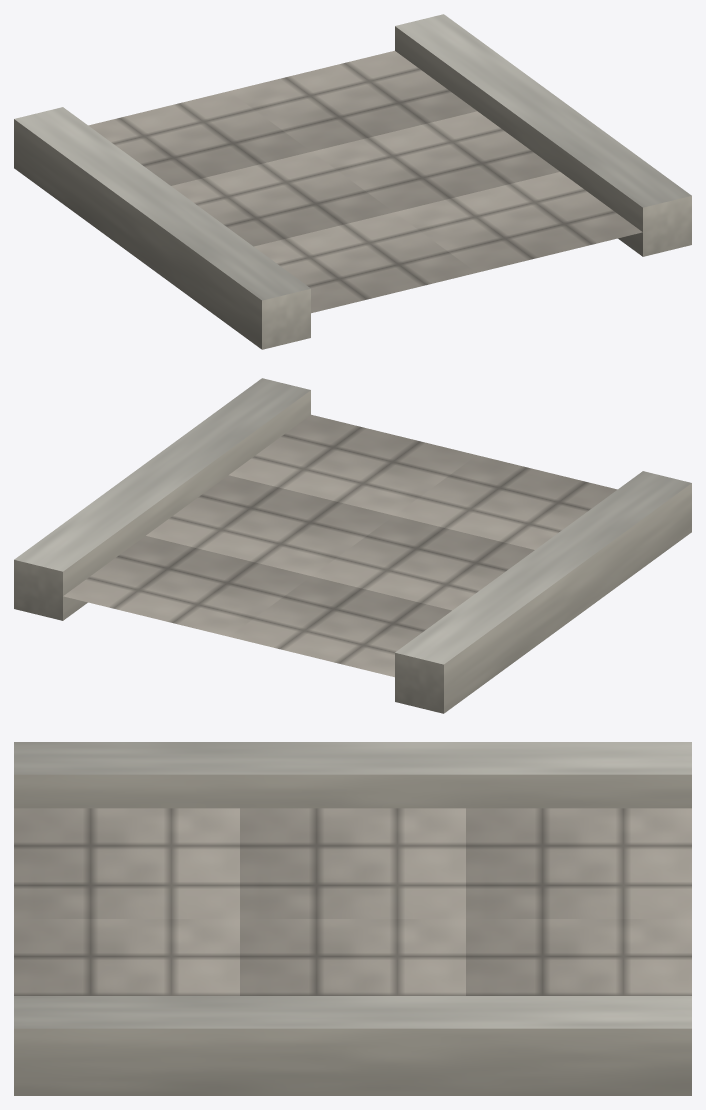
Rendered from walk_path_straight_01.glb.
The picture shows the model from 3 angles, top to bottom: view 1: azimuth 30°, elevation 25°; view 2: azimuth 150°, elevation 25°; view 3: azimuth 270°, elevation 25°; orthographic projection. The views are drawn at different scales.
Visible parts, largest first — view 1: walk_path_straight_01; view 2: walk_path_straight_01; view 3: walk_path_straight_01.
Boxes of the visible parts, box(x1,y1,x2,y2) form: walk_path_straight_01: box(14, 14, 691, 349); walk_path_straight_01: box(14, 378, 691, 713); walk_path_straight_01: box(14, 742, 691, 1095).
Size of the model in its own units: 2.19 by 0.24 by 2.19.
1 material, 1 textured.
